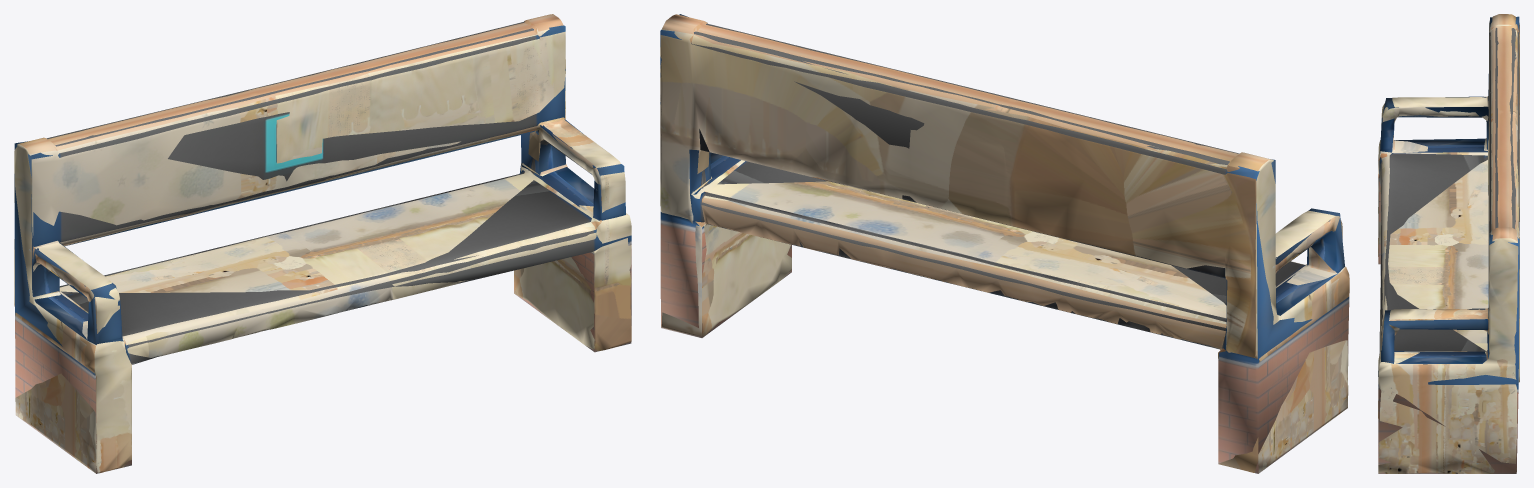
Rendered from bank.fbx.
3 views of the same model, side by side, from view 1: azimuth 30°, elevation 25°; view 2: azimuth 150°, elevation 25°; view 3: azimuth 270°, elevation 25° (orthographic). The views are drawn at different scales.
Visible parts, largest first — view 1: Mesh_0, Mesh_0.001; view 2: Mesh_0, Mesh_0.001; view 3: Mesh_0, Mesh_0.001.
Part boxes in pixels (x1,y1,x2,y2): Mesh_0: [14, 14, 631, 473]; Mesh_0.001: [14, 21, 631, 473]; Mesh_0: [660, 14, 1349, 473]; Mesh_0.001: [660, 14, 1349, 473]; Mesh_0: [1378, 14, 1519, 473]; Mesh_0.001: [1378, 16, 1519, 473].
Bounding box in the file's own units: 189 × 92.4 × 50.43.
